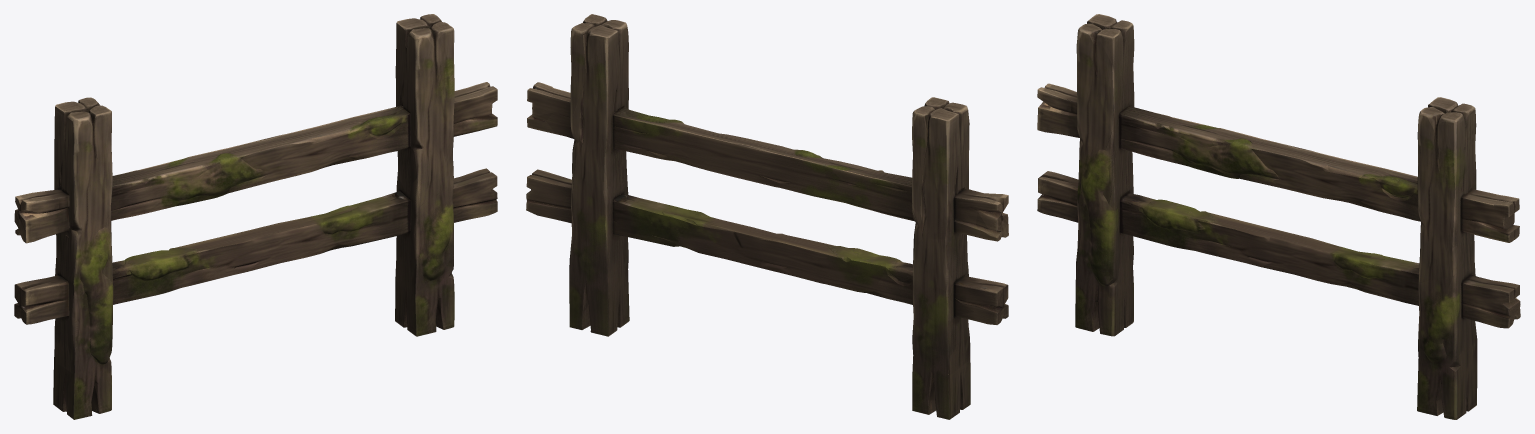
The model's file is fence.glb.
3 renders of one model, left to right at view 1: azimuth 30°, elevation 25°; view 2: azimuth 150°, elevation 25°; view 3: azimuth 330°, elevation 25°, orthographic.
Size of the model in its own units: 1.9 by 1.16 by 0.1688.
1 material, 1 textured.
